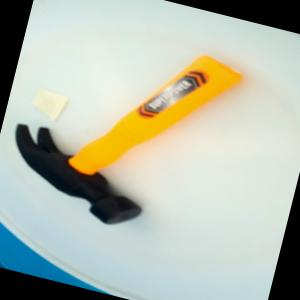martelo: (0, 13, 247, 248)
